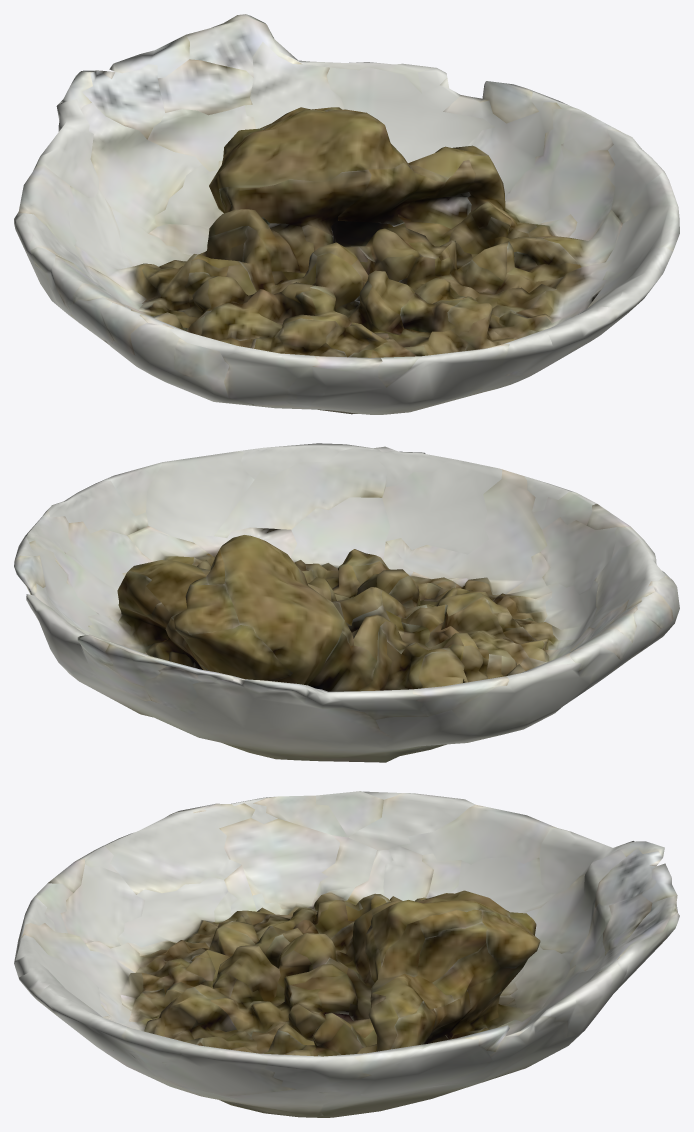
File: hall.glb
The picture shows the model from 3 angles, top to bottom: view 1: azimuth 30°, elevation 25°; view 2: azimuth 150°, elevation 25°; view 3: azimuth 270°, elevation 25°; orthographic projection. The views are drawn at different scales.
Bounding box in the file's own units: 0.7723 × 0.2439 × 0.8045.
1 material, 1 textured.
